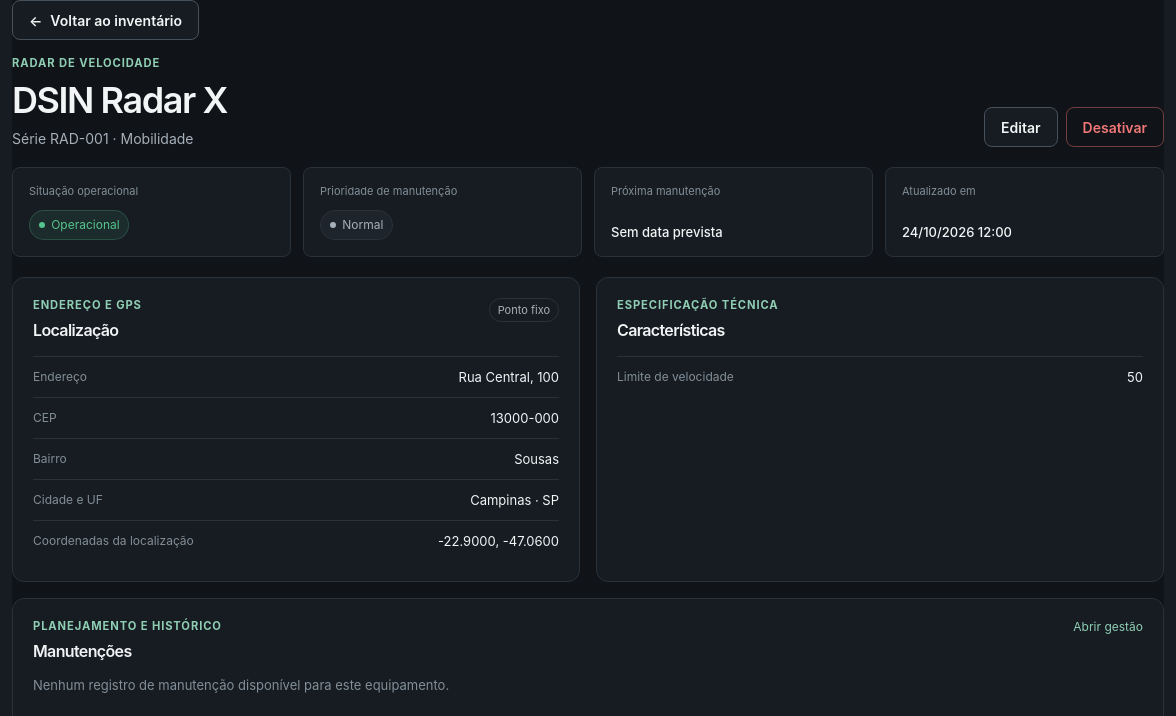
Test: EquipmentDetailsComponent › reports deactivation failures and allows retrying the action
This screenshot has width=1176, height=716.
What coordinates should you click on to do the following:
click the button with class "button--danger-outline"
I would click on:
 (1115, 127)
Its box is top-left (1066, 107), bottom-right (1164, 147).
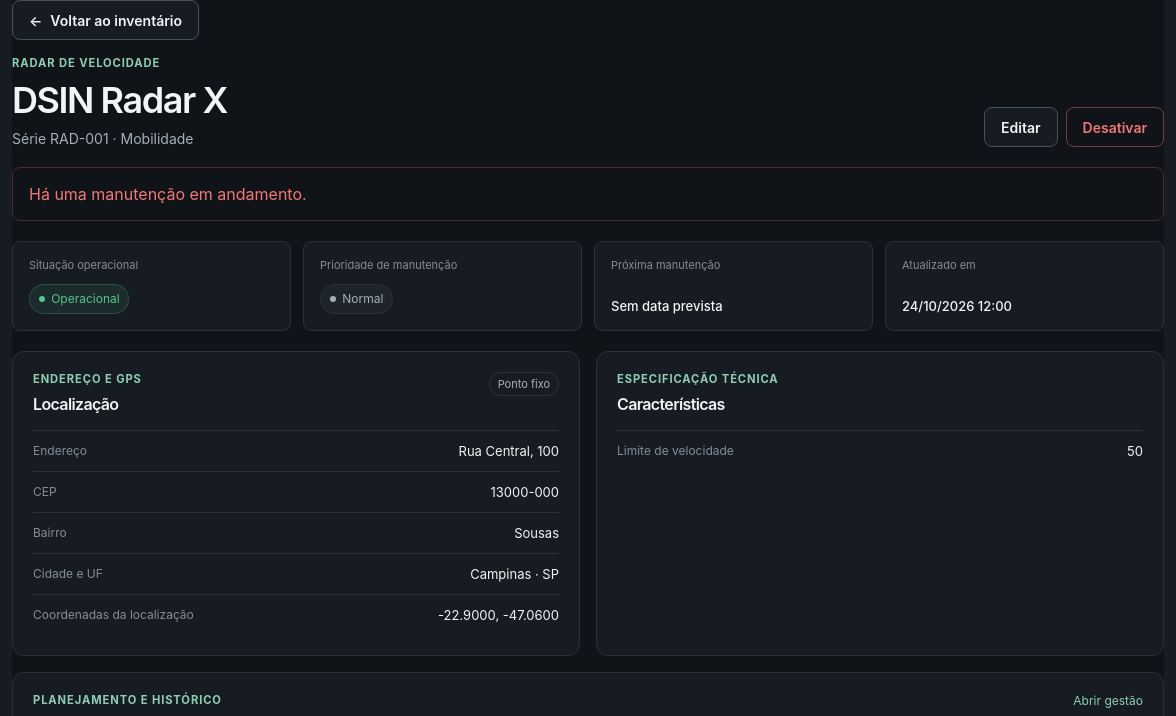
Expected: the message "Há uma manutenção em andamento." is shown, top-left (12, 167), bottom-right (1164, 221)
